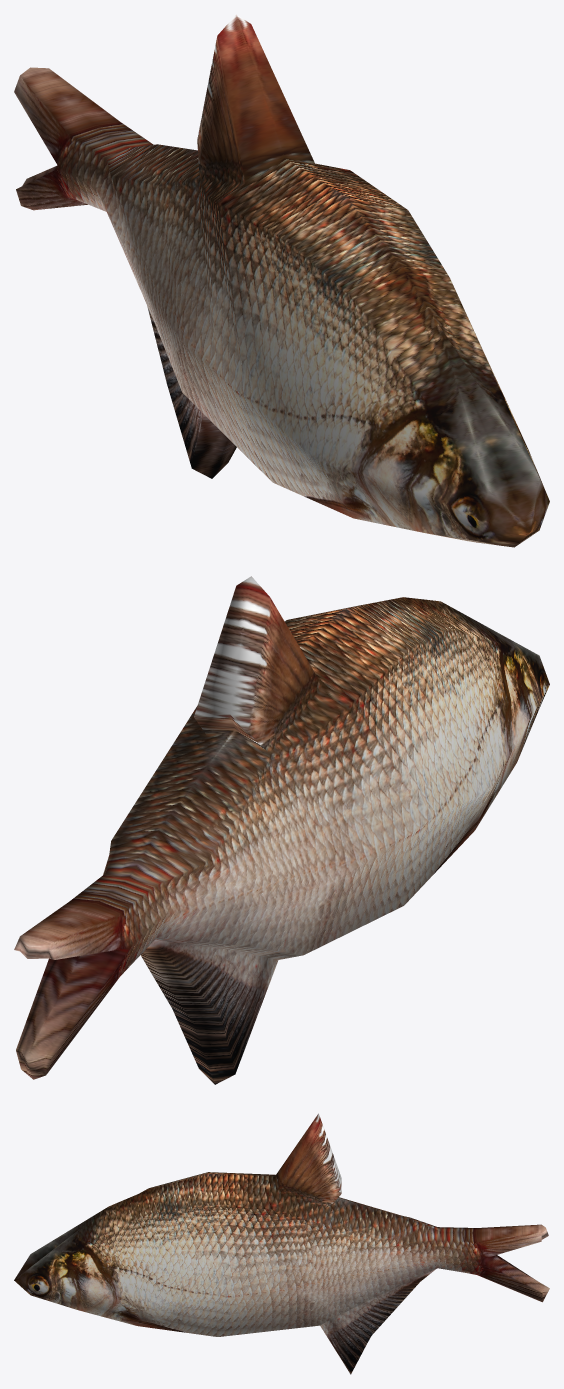
The model's file is SM_brax.fbx.
The picture shows the model from 3 angles, top to bottom: view 1: azimuth 30°, elevation 25°; view 2: azimuth 150°, elevation 25°; view 3: azimuth 270°, elevation 25°; orthographic projection. The views are drawn at different scales.
Visible parts, largest first — view 1: pSphere2; view 2: pSphere2; view 3: pSphere2.
Boxes of the visible parts, x1,y1,x2,y2 form: pSphere2: (14, 14, 549, 547); pSphere2: (14, 576, 549, 1084); pSphere2: (14, 1113, 549, 1374).
Size of the model in its own units: 2 by 5.01 by 9.37.
1 material, 1 textured.
